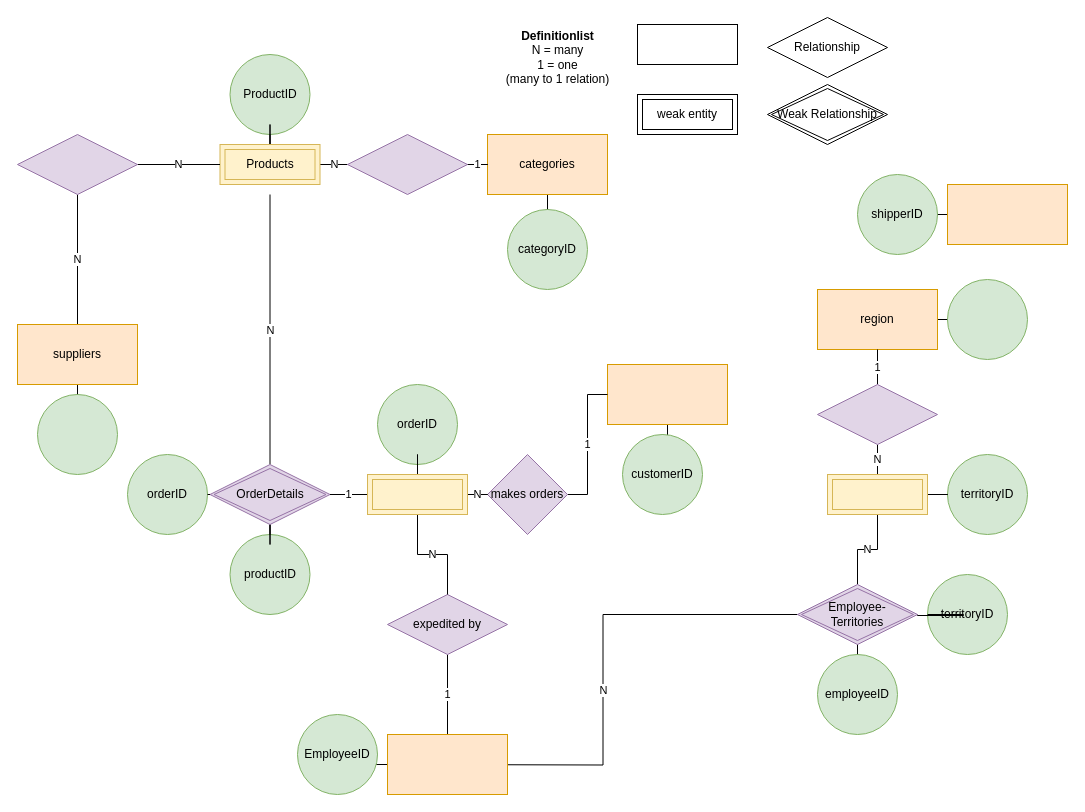
This 1085x812 diagram has some shape labels left out. The shapes that lost their labels are listed below. From the top down, each one's centre as x and y in pixels, then its label:
the point at 687,44: Entity
the point at 77,164: Suppliers have products
the point at 407,164: Categories have products
the point at 1007,214: shippers
the point at 987,319: regionID
the point at 667,394: customers
the point at 877,414: has
the point at 77,434: supplierID
the point at 417,494: Orders
the point at 877,494: Territories
the point at 447,764: Employees
